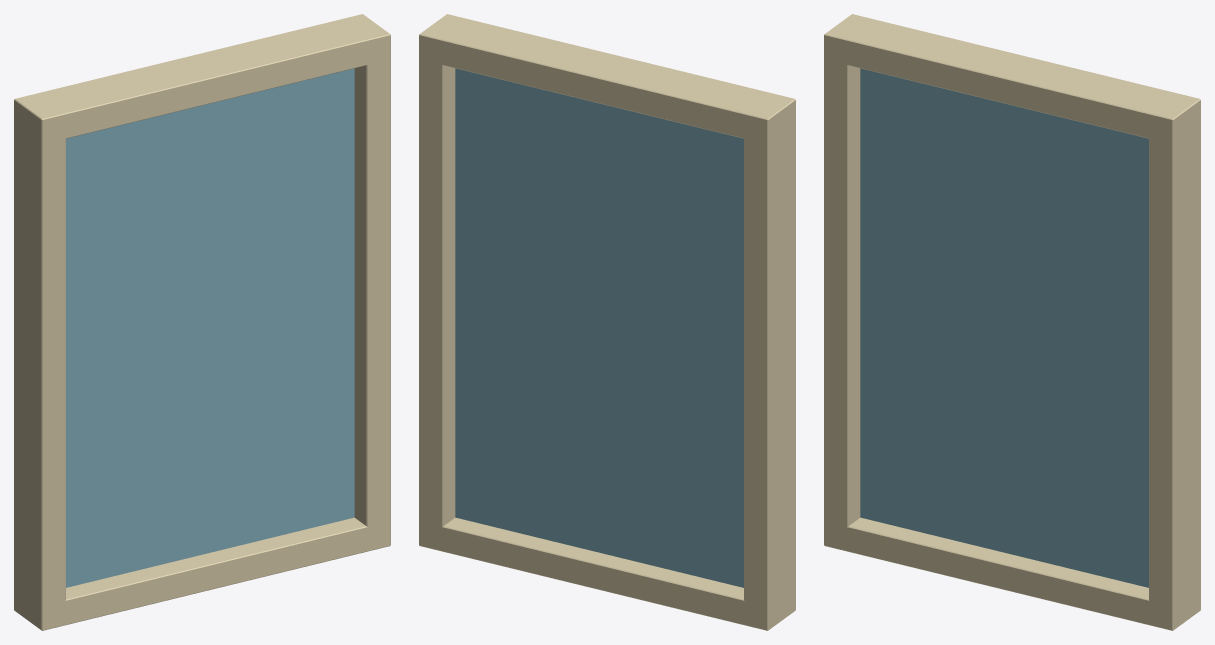
Rendered from b21_window_fixed_1m.glb.
The picture shows the model from 3 angles, left to right: view 1: azimuth 30°, elevation 25°; view 2: azimuth 150°, elevation 25°; view 3: azimuth 330°, elevation 25°; orthographic projection.
Parts seen in each view (by area): view 1: b21_window_fixed_1m; view 2: b21_window_fixed_1m; view 3: b21_window_fixed_1m.
Part boxes in pixels (x1,y1,x2,y2): b21_window_fixed_1m: (14, 14, 390, 630); b21_window_fixed_1m: (419, 14, 795, 630); b21_window_fixed_1m: (824, 14, 1200, 630).
Size of the model in its own units: 1 by 1.4 by 0.14.
